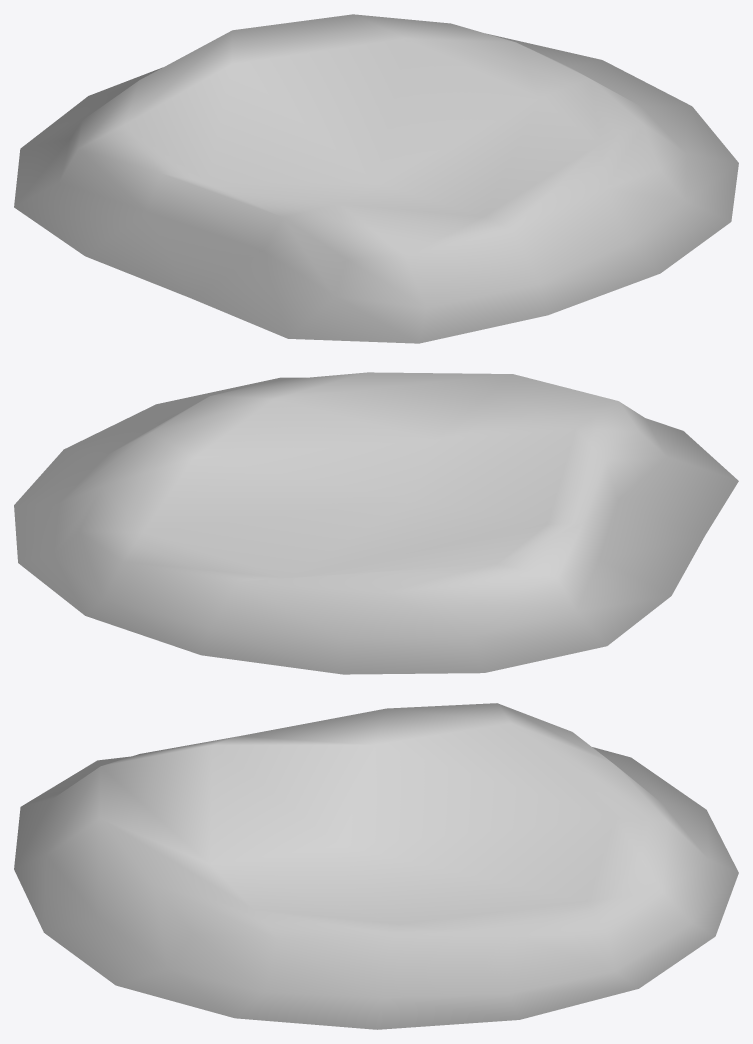
The model's file is Melted_Snow_Pile_01.fbx.
3 renders of one model, top to bottom at view 1: azimuth 30°, elevation 25°; view 2: azimuth 150°, elevation 25°; view 3: azimuth 270°, elevation 25°, orthographic. The views are drawn at different scales.
Parts seen in each view (by area): view 1: Melted_Snow_Pile_01; view 2: Melted_Snow_Pile_01; view 3: Melted_Snow_Pile_01.
Boxes of the visible parts, left/top/right/bottom form: Melted_Snow_Pile_01: left=14, top=14, right=738, bottom=343; Melted_Snow_Pile_01: left=14, top=372, right=738, bottom=674; Melted_Snow_Pile_01: left=14, top=703, right=738, bottom=1029.
Bounding box in the file's own units: 152 × 15.98 × 153.
